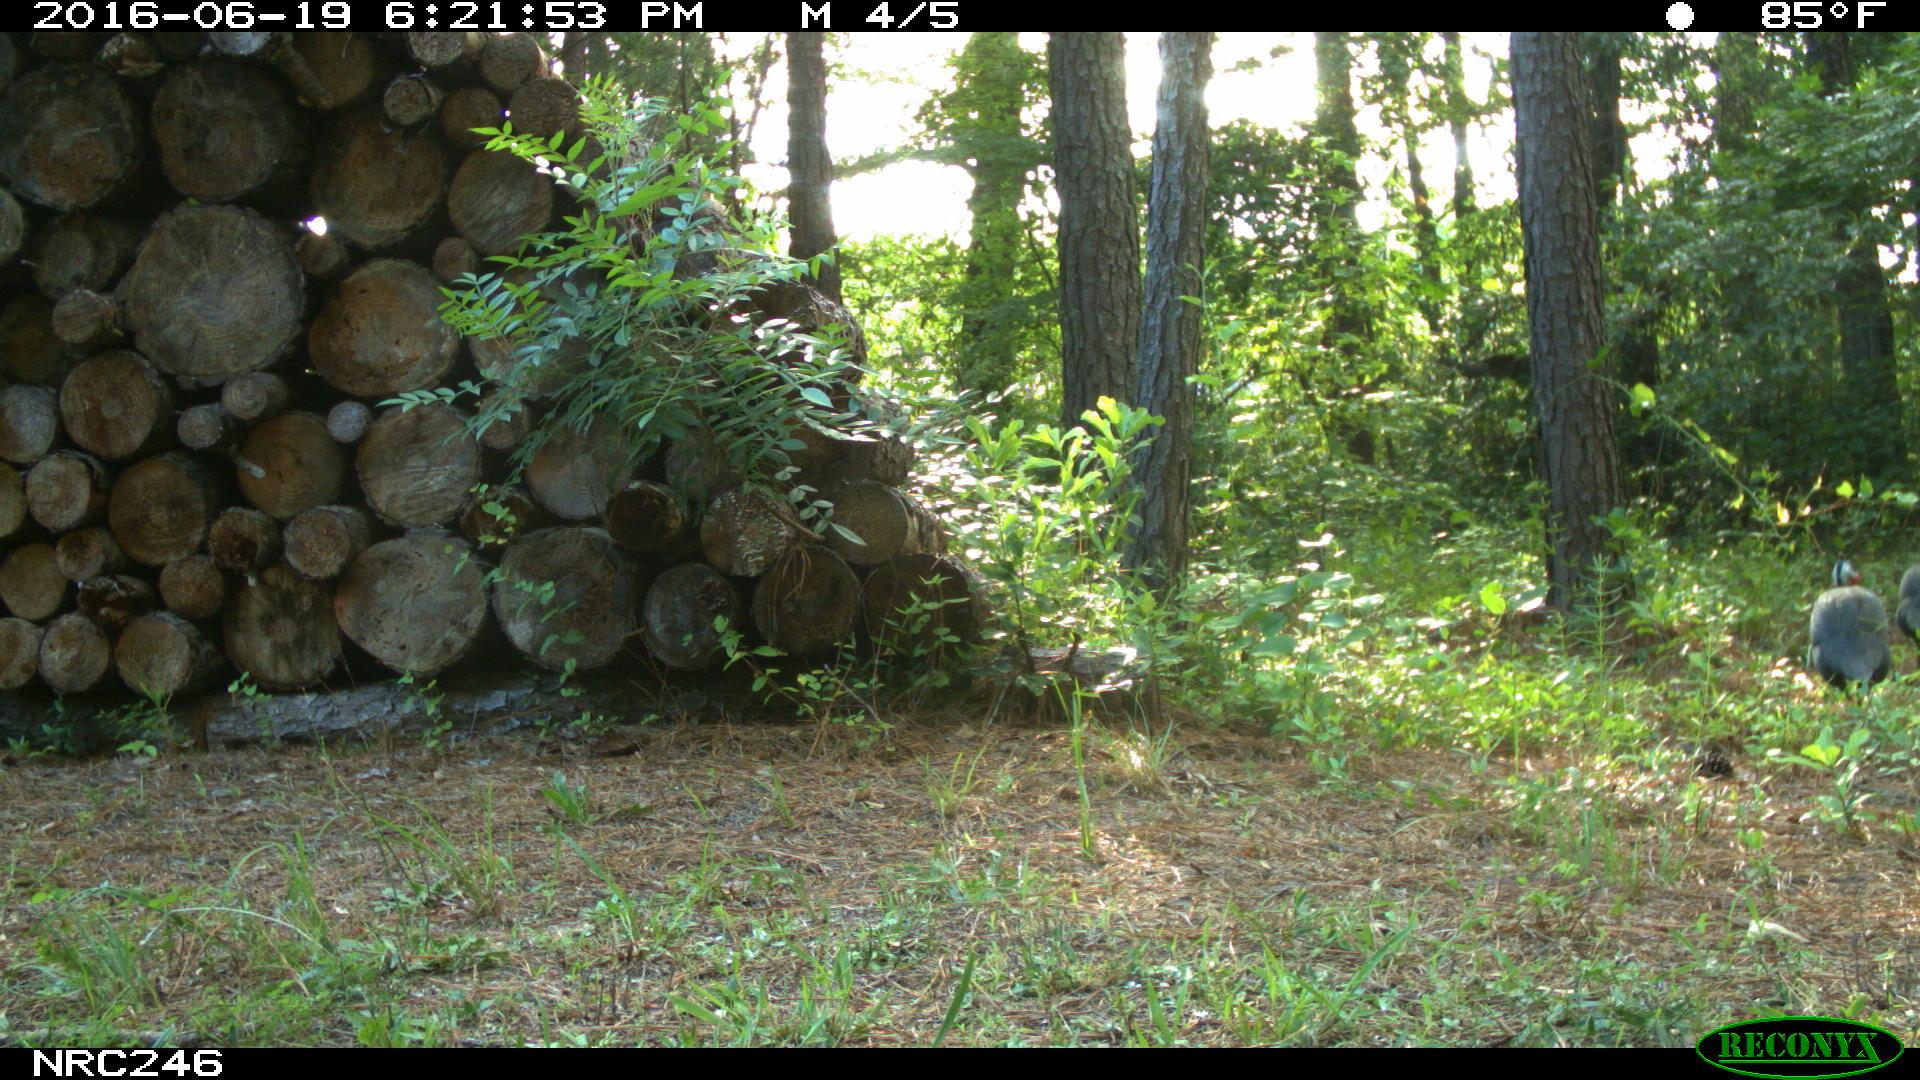Animal: (1811, 558, 1888, 705)
